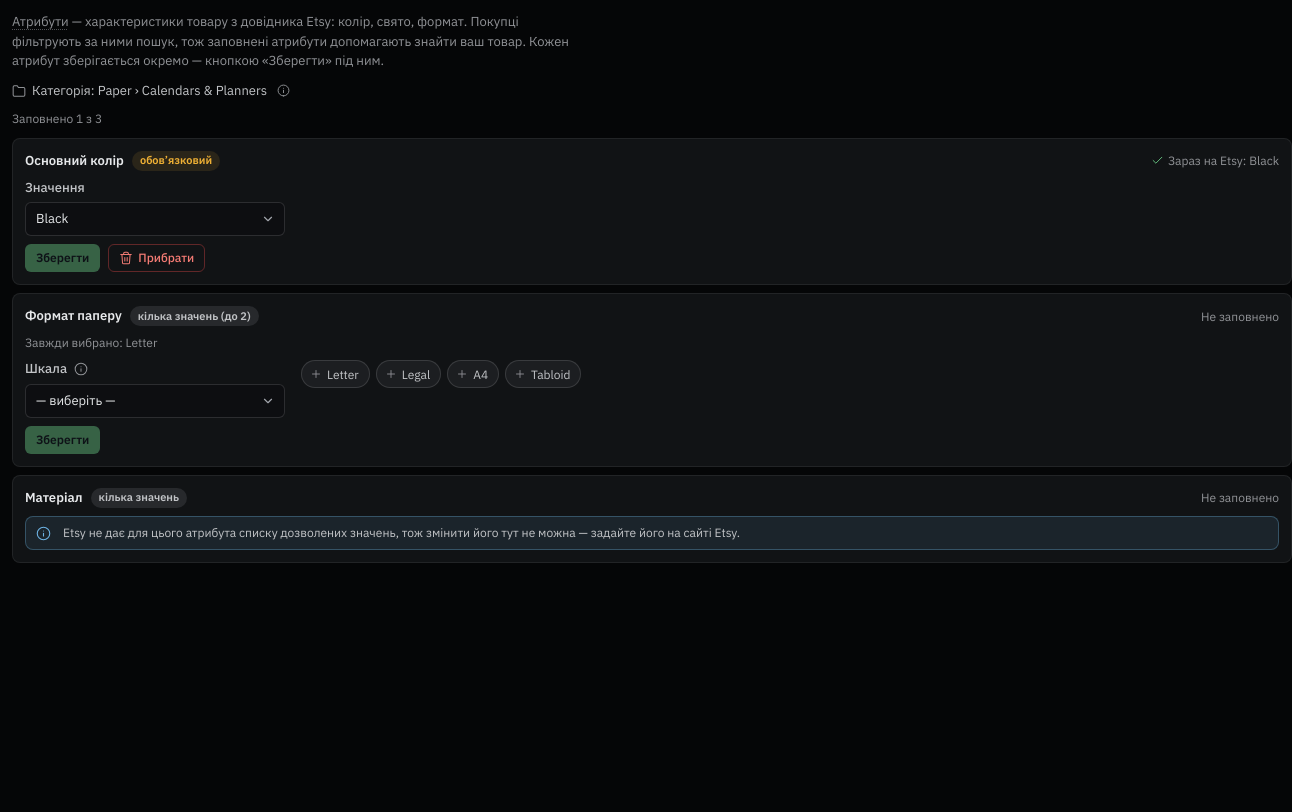
Атрибути › a single value: pick it and save that property only
Expected: the button "Зберегти" below "Значення" is disabled, [25, 244, 100, 272]
Select "Teal & Orange" in the dropdown labelled "Значення" at (155, 219), box [25, 202, 285, 236]
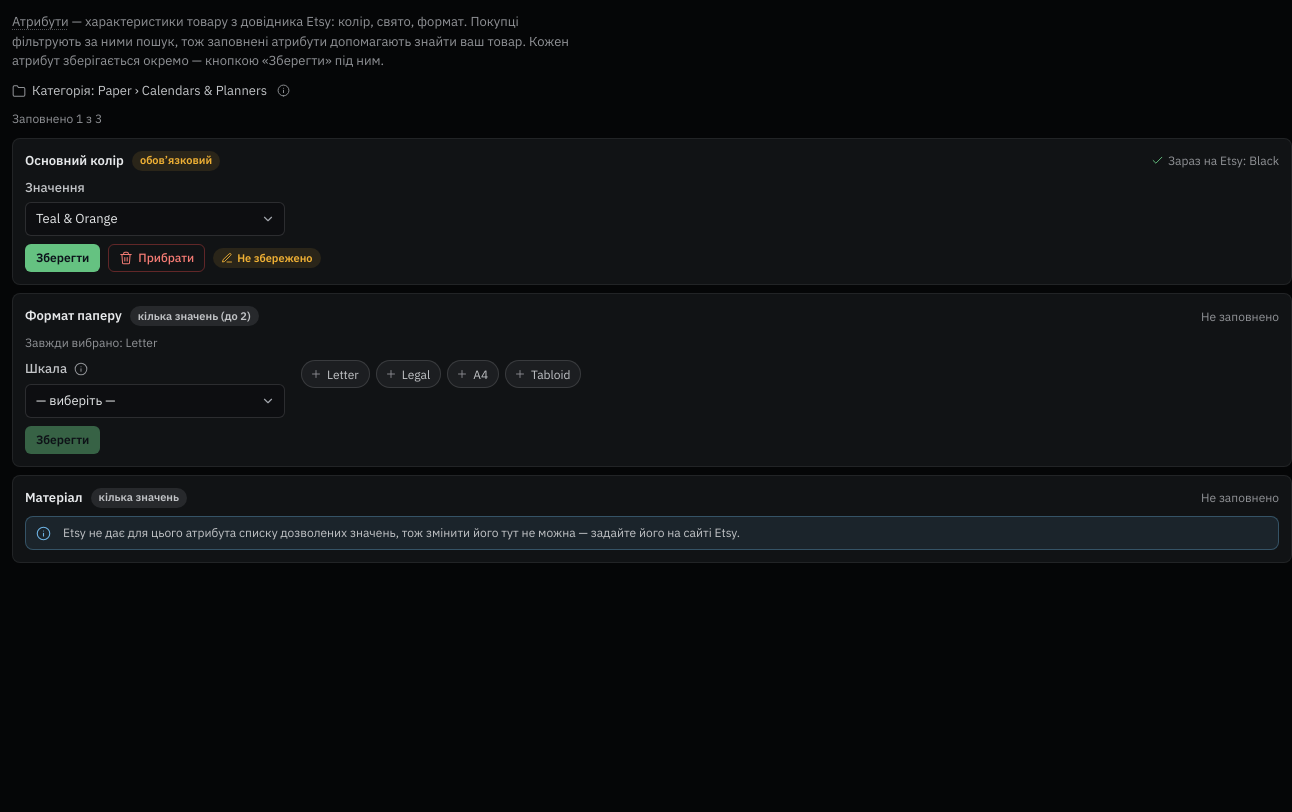
Click the button "Зберегти" in the row of "Не збережено".
click(63, 258)  # box [25, 244, 100, 272]
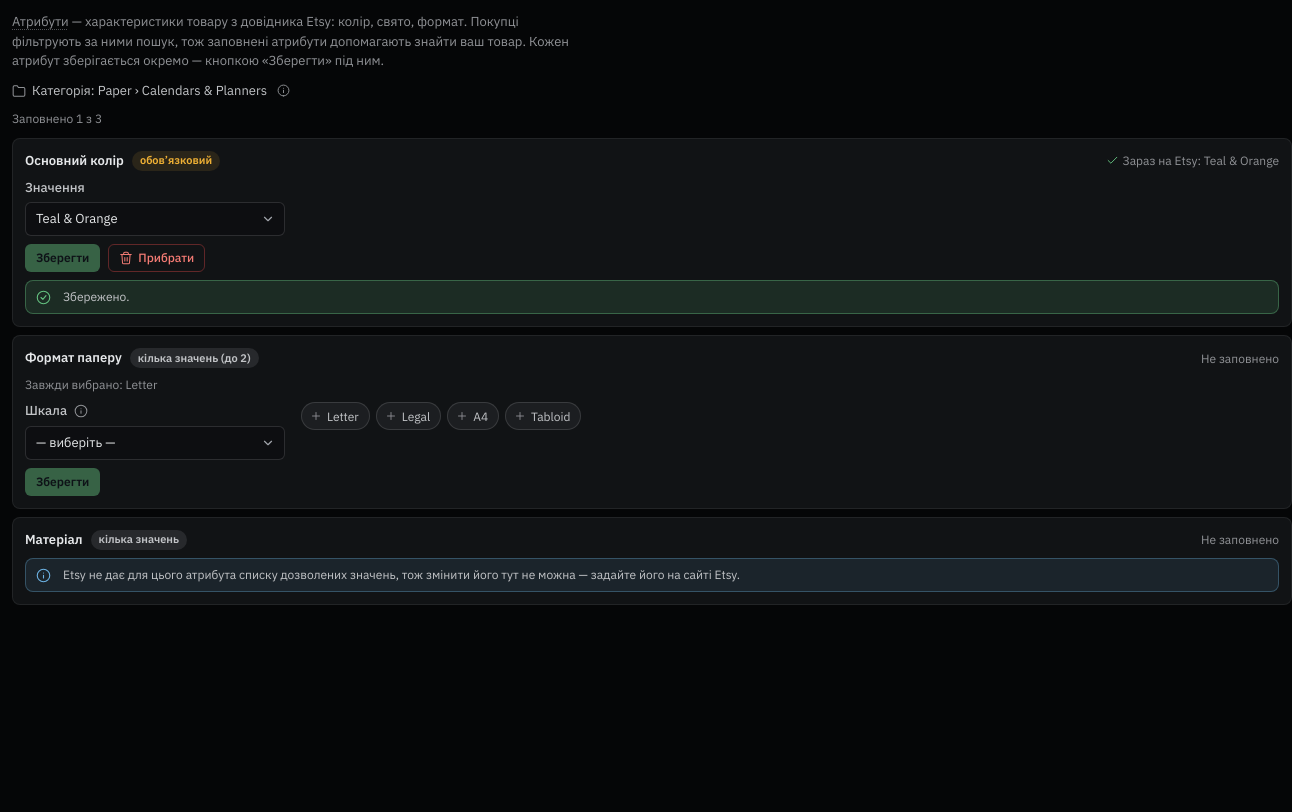
Now the element with test id "lm-attr-200" shows "Збережено.", box [63, 289, 130, 304]
Now the element with test id "lm-attr-200" shows "Зараз на Etsy: Teal & Orange", box [12, 138, 1291, 327]
